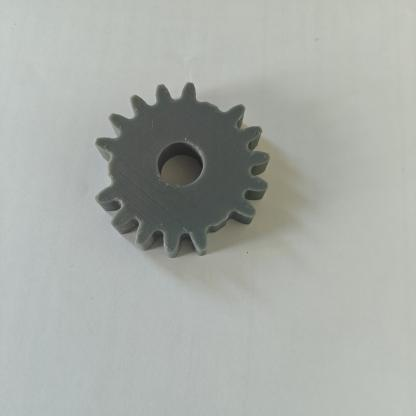defect: (179, 64, 264, 145), (73, 130, 139, 213), (179, 202, 269, 257)
gear: (55, 60, 300, 274)
